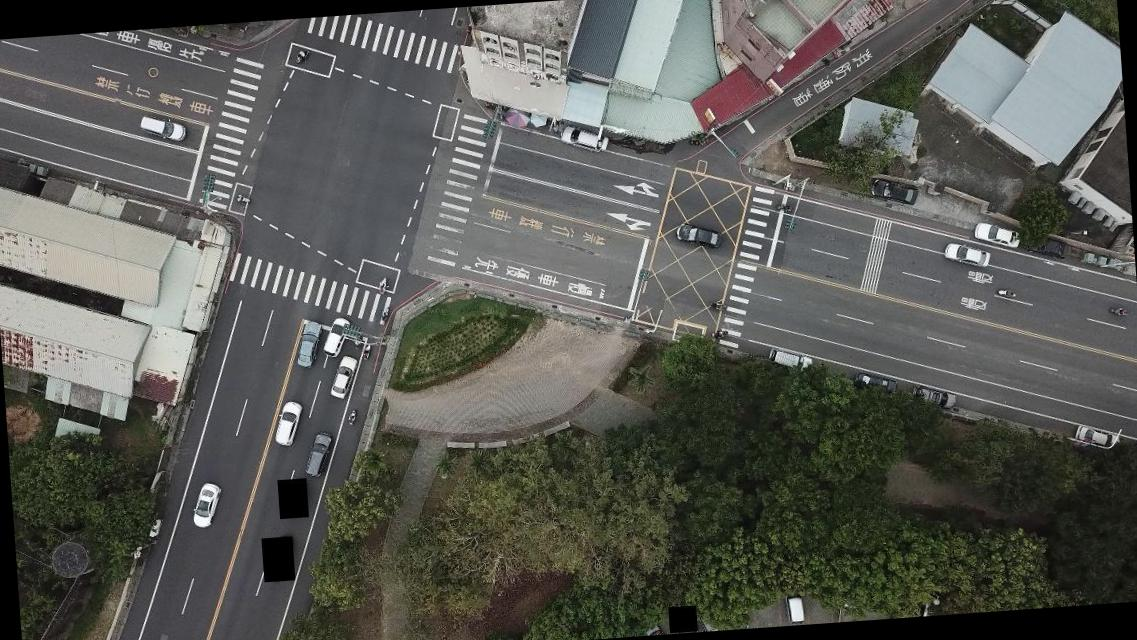vehicle: (558, 120, 611, 155), (137, 110, 188, 146), (271, 398, 307, 447), (301, 428, 336, 478), (971, 218, 1022, 252), (1021, 229, 1070, 264), (766, 343, 817, 376), (188, 482, 224, 528), (869, 175, 919, 208), (1074, 420, 1124, 453), (676, 219, 724, 252), (294, 319, 326, 368), (327, 353, 360, 400), (944, 238, 992, 270), (910, 382, 960, 411), (855, 368, 901, 398), (322, 314, 353, 358), (782, 591, 808, 625)
